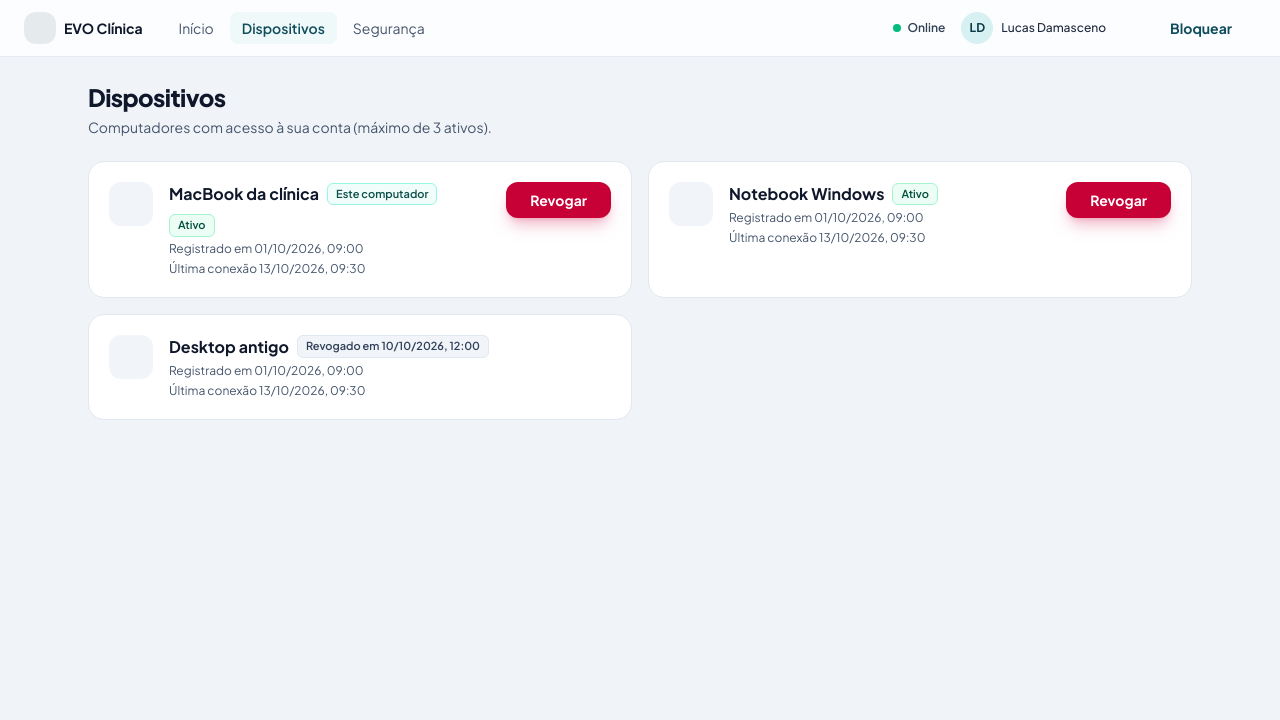
it: DispositivosTela › modal de revogação › código do autenticador errado (erro do servidor, com status) aparece no campo e limpa o código
This screenshot has width=1280, height=720.
Click the button with aria-label "Revogar Notebook Windows" at (1119, 200), box x1=1066 y1=182 x2=1171 y2=218
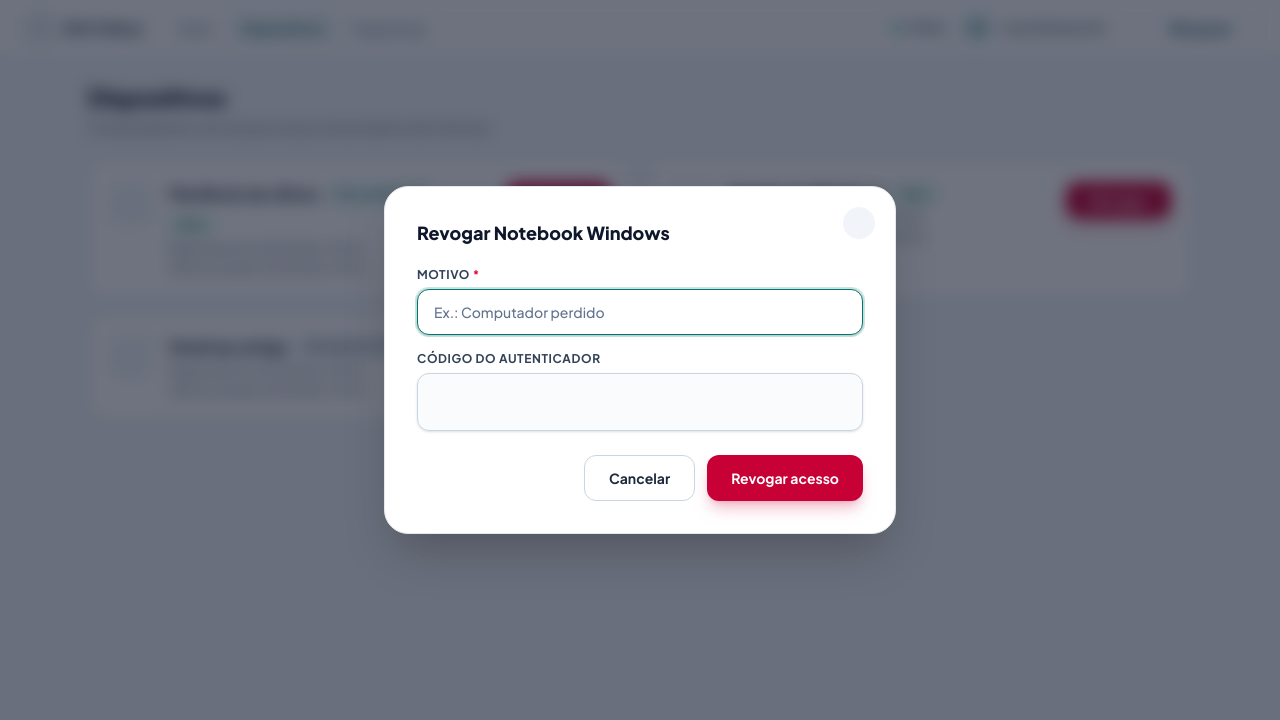
Type "Computador perdido" into the field labelled "Motivo *" at (640, 312), box x1=417 y1=289 x2=863 y2=335
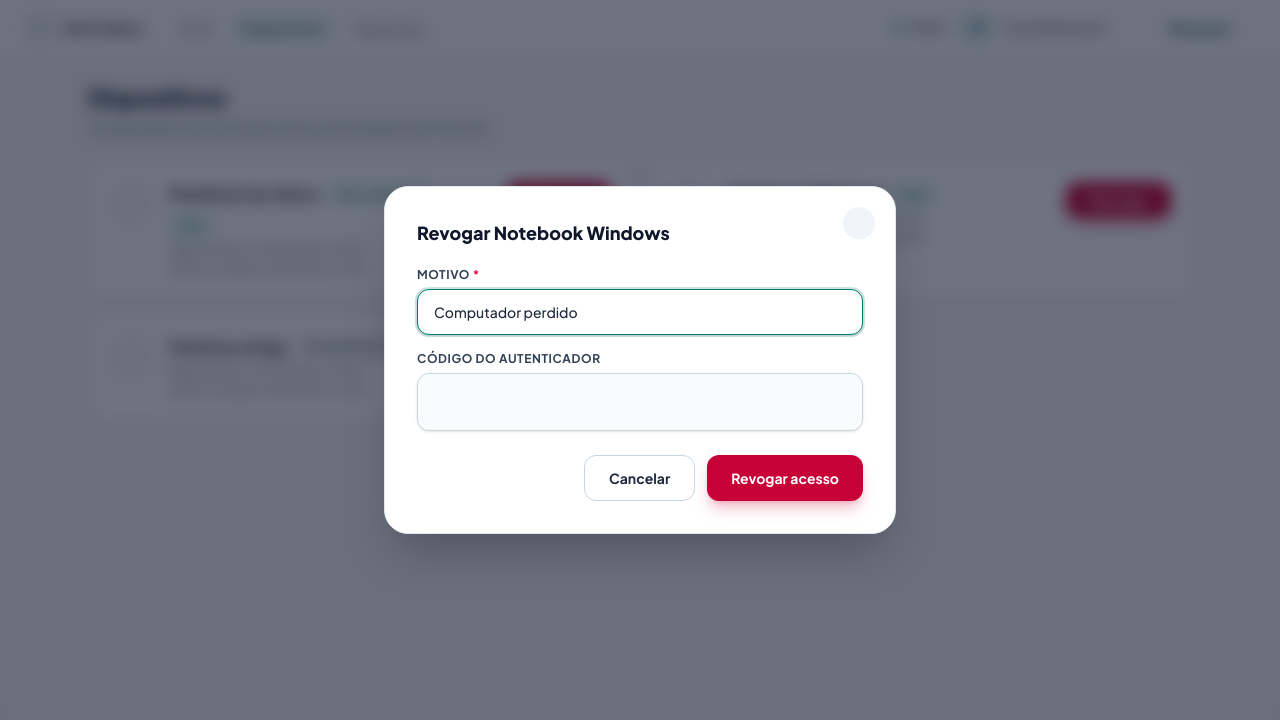
Type "000000" into the field labelled "Código do autenticador" at (640, 402), box x1=417 y1=373 x2=863 y2=431
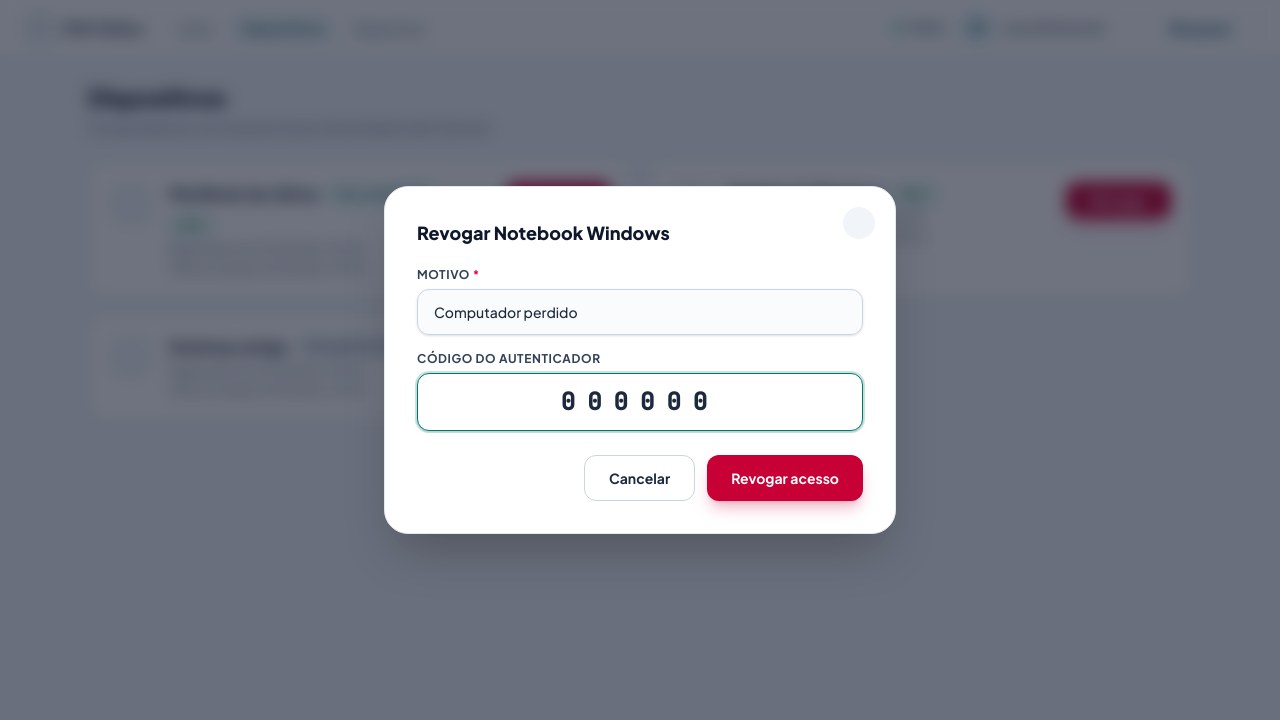
Click the button "Revogar acesso" at (785, 478), box x1=707 y1=455 x2=863 y2=501
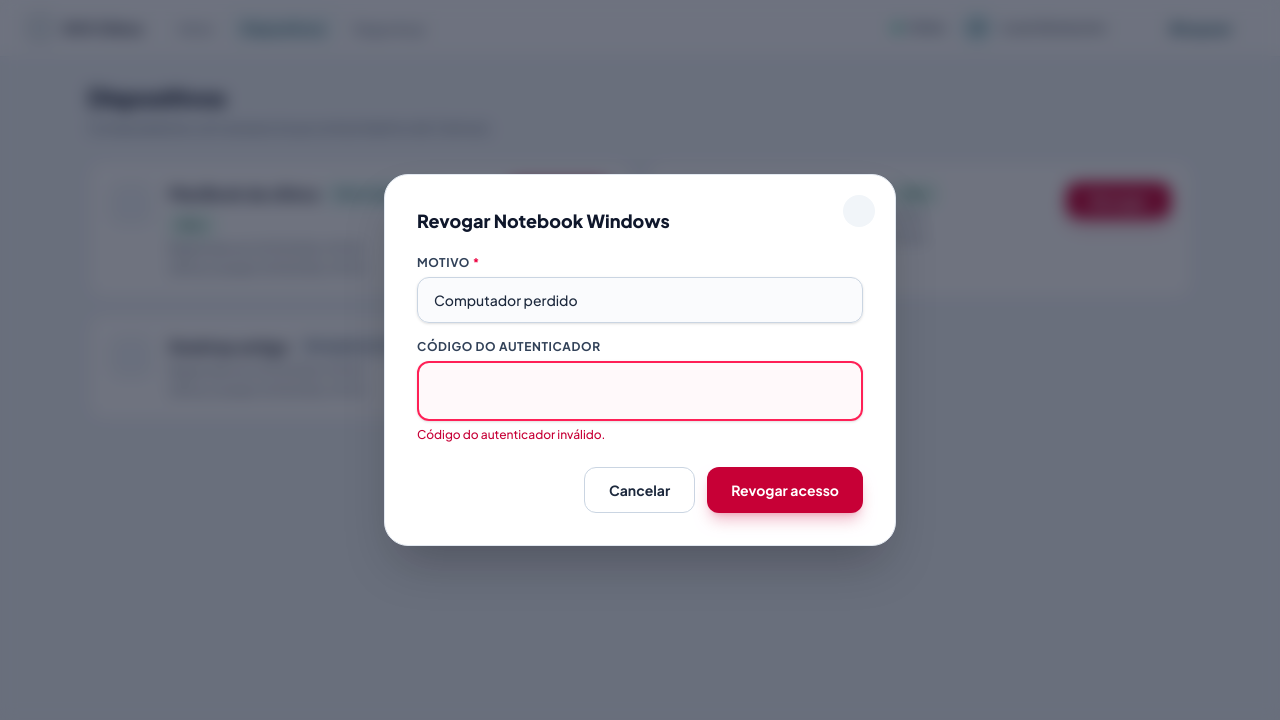
Check: the text "Código do autenticador inválido." is shown, box x1=417 y1=427 x2=605 y2=442
Check: the field labelled "Código do autenticador" is empty, box x1=417 y1=361 x2=863 y2=421
